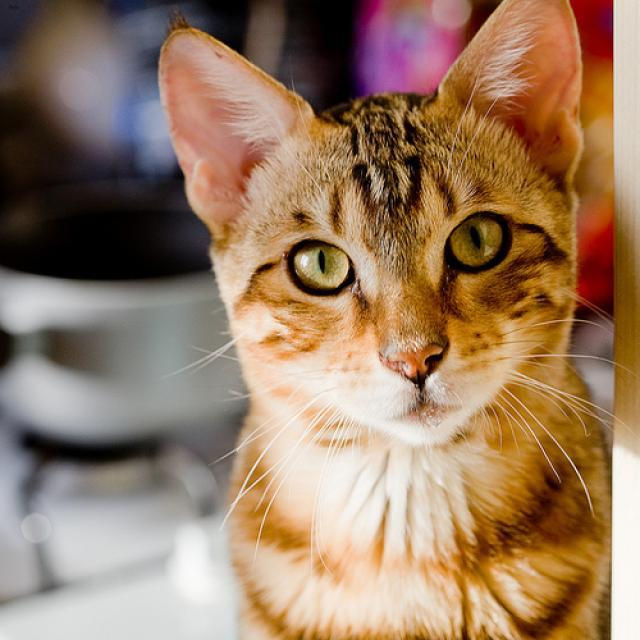Bengal: (154, 8, 583, 451)
